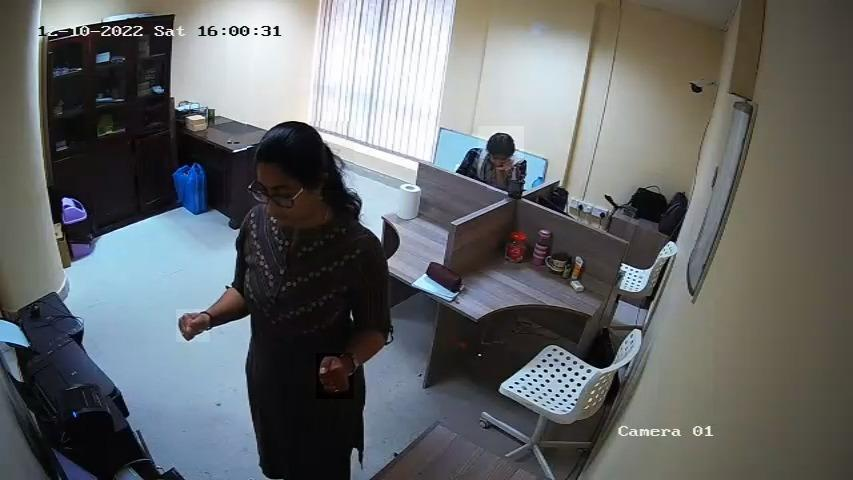no_apron: (316, 354, 354, 400), (488, 153, 520, 191), (176, 309, 210, 342)
no_gloves: (248, 122, 355, 191), (478, 126, 524, 158)
no_hairnet: (252, 186, 322, 239), (486, 148, 508, 174)
